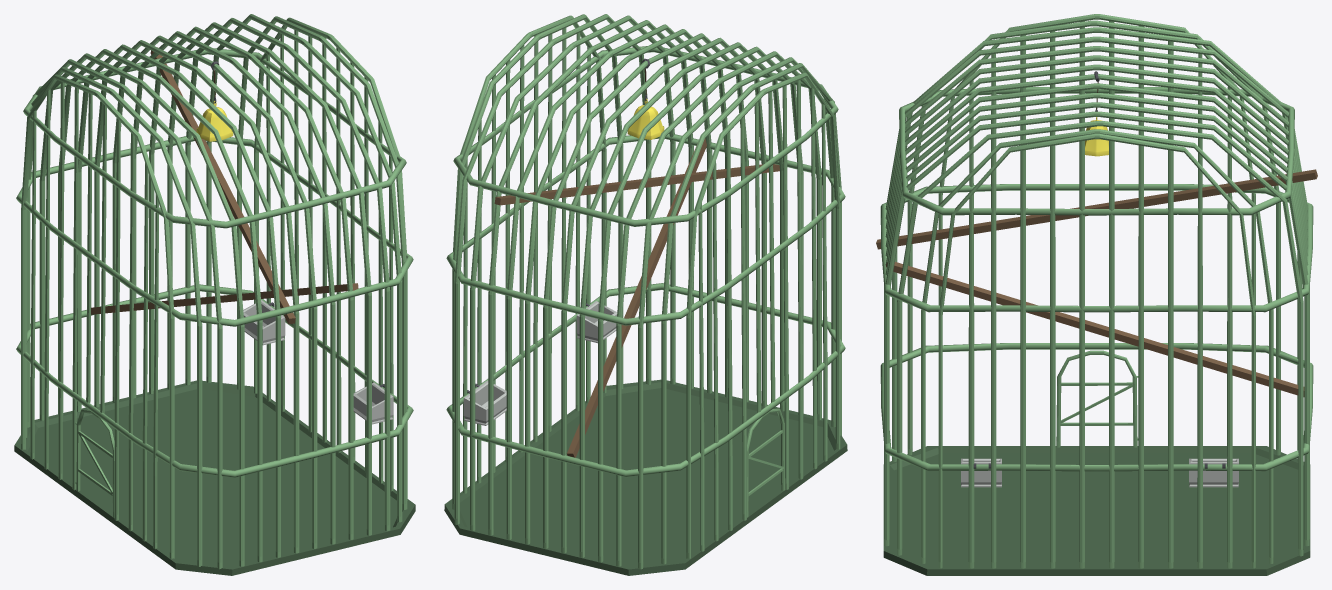
Rendered from BirdCage.fbx.
The picture shows the model from 3 angles, left to right: view 1: azimuth 30°, elevation 25°; view 2: azimuth 150°, elevation 25°; view 3: azimuth 270°, elevation 25°; orthographic projection. The views are drawn at different scales.
Visible parts, largest first — view 1: Cage1, Stick_1, Stick_2, Door, Water, Feed, Bell; view 2: Cage1, Stick_2, Stick_1, Feed, Door, Water, Bell; view 3: Cage1, Stick_2, Stick_1, Door, Feed, Water.
Part boxes in pixels (left/top/right/bottom): Cage1: left=14, top=14, right=415, bottom=575; Stick_1: left=150, top=47, right=295, bottom=324; Stick_2: left=91, top=283, right=358, bottom=314; Door: left=75, top=409, right=114, bottom=517; Water: left=353, top=382, right=393, bottom=424; Feed: left=243, top=300, right=285, bottom=345; Bell: left=196, top=101, right=233, bottom=141; Cage1: left=444, top=14, right=847, bottom=575; Stick_2: left=567, top=138, right=706, bottom=457; Stick_1: left=494, top=164, right=779, bottom=205; Feed: left=463, top=380, right=506, bottom=425; Door: left=747, top=408, right=785, bottom=517; Water: left=576, top=301, right=617, bottom=343; Bell: left=627, top=98, right=664, bottom=139; Cage1: left=880, top=14, right=1313, bottom=575; Stick_2: left=886, top=261, right=1304, bottom=396; Stick_1: left=876, top=169, right=1317, bottom=249; Door: left=1056, top=350, right=1138, bottom=447; Feed: left=1189, top=458, right=1238, bottom=487; Water: left=961, top=458, right=1001, bottom=487.
Bounding box in the file's own units: 39.97 × 66.08 × 59.88.
